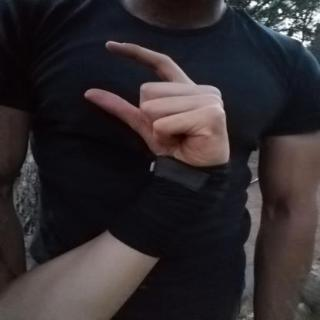DELL: (73, 32, 239, 172)
